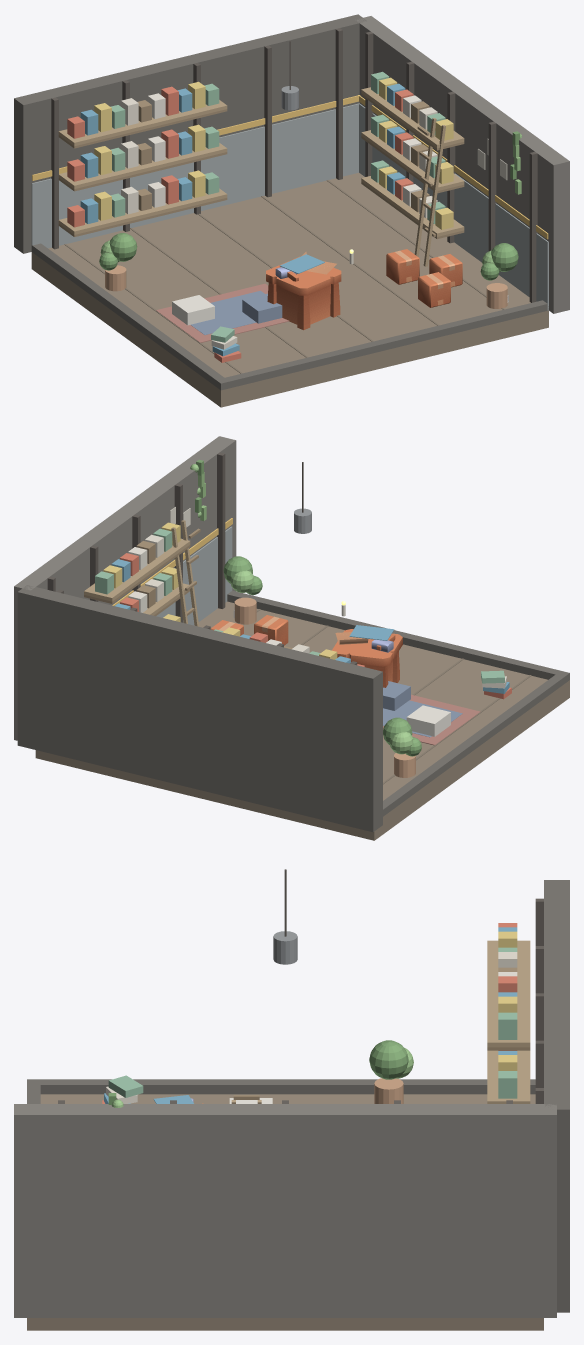
File: library.glb
The picture shows the model from 3 angles, top to bottom: view 1: azimuth 30°, elevation 25°; view 2: azimuth 150°, elevation 25°; view 3: azimuth 270°, elevation 25°; orthographic projection. The views are drawn at different scales.
Visible parts, largest first — view 1: floor, wallY, wallX, tilesY, tilesX, curbY, workbench, curbX, shelf.001, shelf.002, shelf, rug2 (+27 smaller); view 2: wallY, floor, wallX, curbY, curbX, tilesX, workbench, bx-2, shelf.005, cushion, rug, box (+6 smaller); view 3: wallX, floor, wallY, curbX, shelf.002, shelf.001, leaf.005, lamp, pot.001.
Boxes of the visible parts, bbox=[...] form: floor: bbox=[31, 172, 548, 407]; wallY: bbox=[14, 14, 366, 253]; wallX: bbox=[355, 16, 569, 313]; tilesY: bbox=[31, 103, 358, 248]; tilesX: bbox=[358, 103, 548, 310]; curbY: bbox=[216, 300, 548, 390]; workbench: bbox=[266, 256, 341, 330]; curbX: bbox=[31, 243, 229, 390]; shelf.001: bbox=[58, 143, 227, 188]; shelf.002: bbox=[58, 100, 227, 146]; shelf: bbox=[58, 188, 227, 234]; rug2: bbox=[191, 290, 264, 334]; wallY: bbox=[17, 585, 382, 832]; floor: bbox=[35, 601, 569, 840]; wallX: bbox=[14, 436, 236, 740]; curbY: bbox=[227, 590, 569, 683]; curbX: bbox=[383, 671, 569, 816]; tilesX: bbox=[156, 526, 232, 625]; workbench: bbox=[332, 629, 402, 687]; bx-2: bbox=[217, 452, 225, 608]; shelf.005: bbox=[84, 538, 190, 601]; cushion: bbox=[406, 705, 450, 736]; rug: bbox=[383, 694, 480, 745]; box: bbox=[254, 615, 288, 645]; wallX: bbox=[14, 1104, 556, 1317]; floor: bbox=[27, 1094, 543, 1330]; wallY: bbox=[544, 880, 569, 1312]; curbX: bbox=[27, 1079, 535, 1094]; shelf.002: bbox=[487, 940, 530, 1047]; shelf.001: bbox=[487, 1050, 530, 1103]; leaf.005: bbox=[369, 1040, 408, 1079]; lamp: bbox=[273, 931, 297, 964]; pot.001: bbox=[374, 1078, 403, 1103].
Bounding box in the file's own units: 6.45 × 4.5 × 6.45.
Materials: 32 (4 with a texture image).
